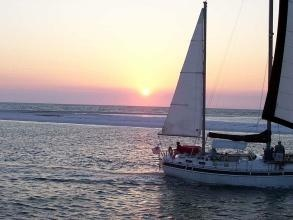fanchuan: (152, 1, 293, 186)
